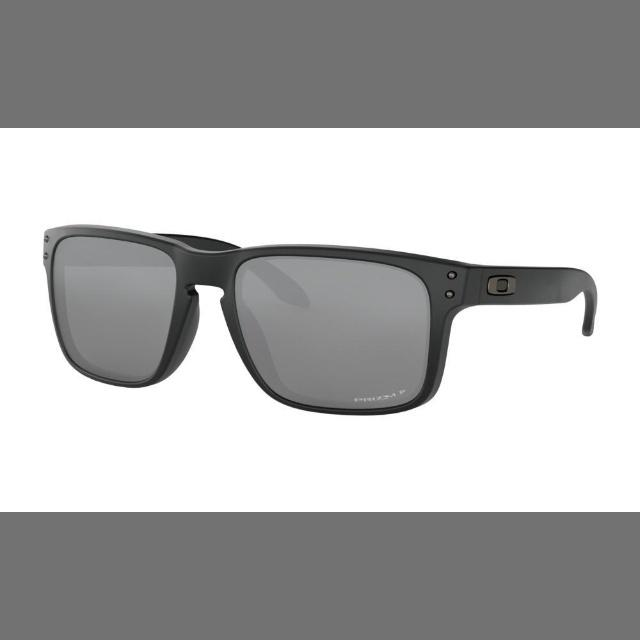Sunglasses: (17, 179, 620, 437)
